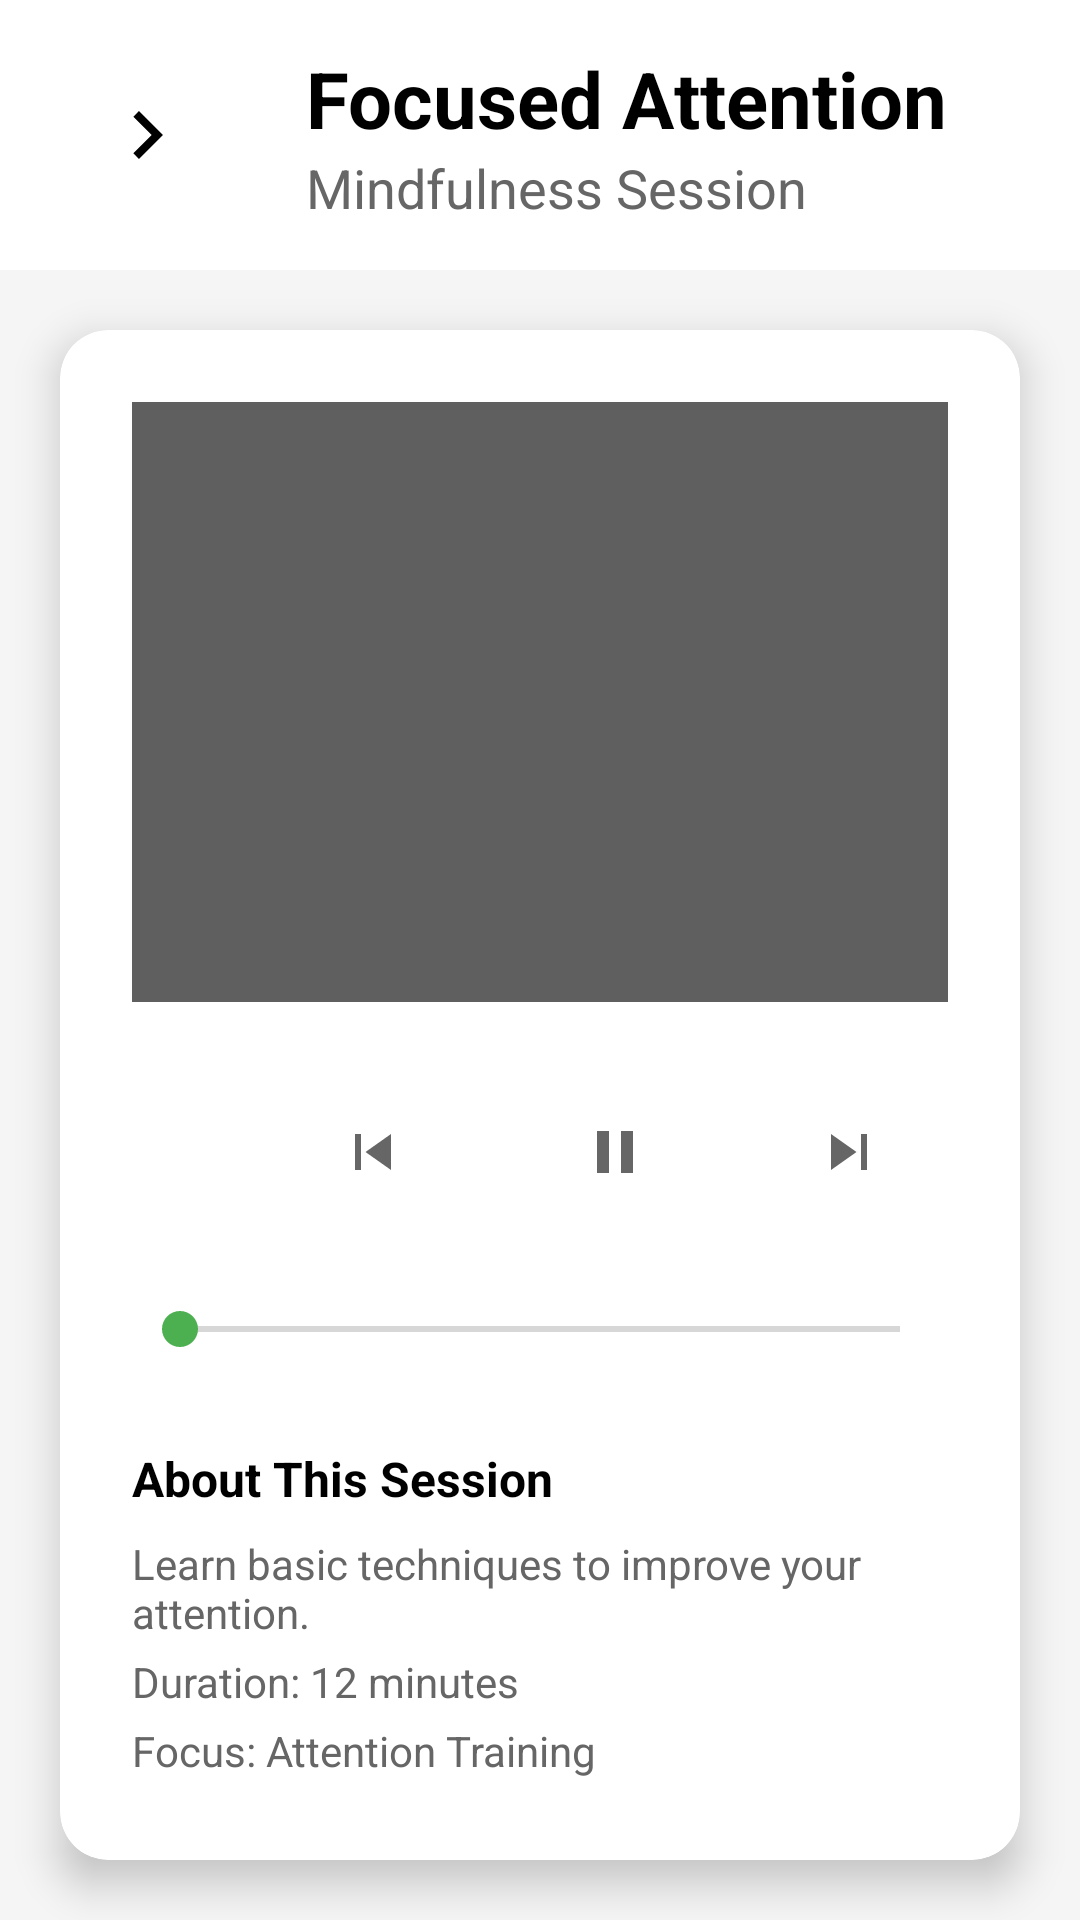

Screen size 1080×1920. Icon name, then its center in pixels as [x,y]:
Next: [849,1152]
Play/Pause: [615,1152]
Previous: [373,1152]
